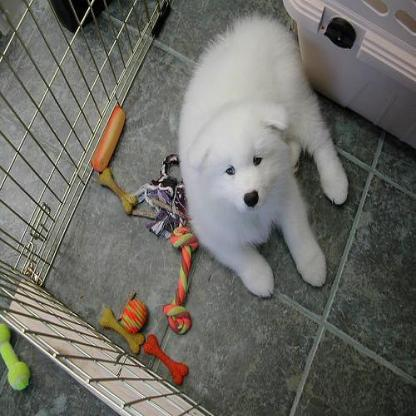Samoyed: (177, 11, 348, 296)
